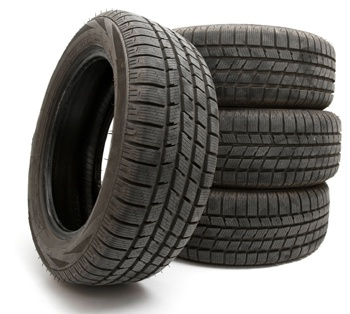tire: (23, 8, 221, 297), (116, 183, 332, 268), (136, 24, 337, 110), (139, 110, 342, 184)
